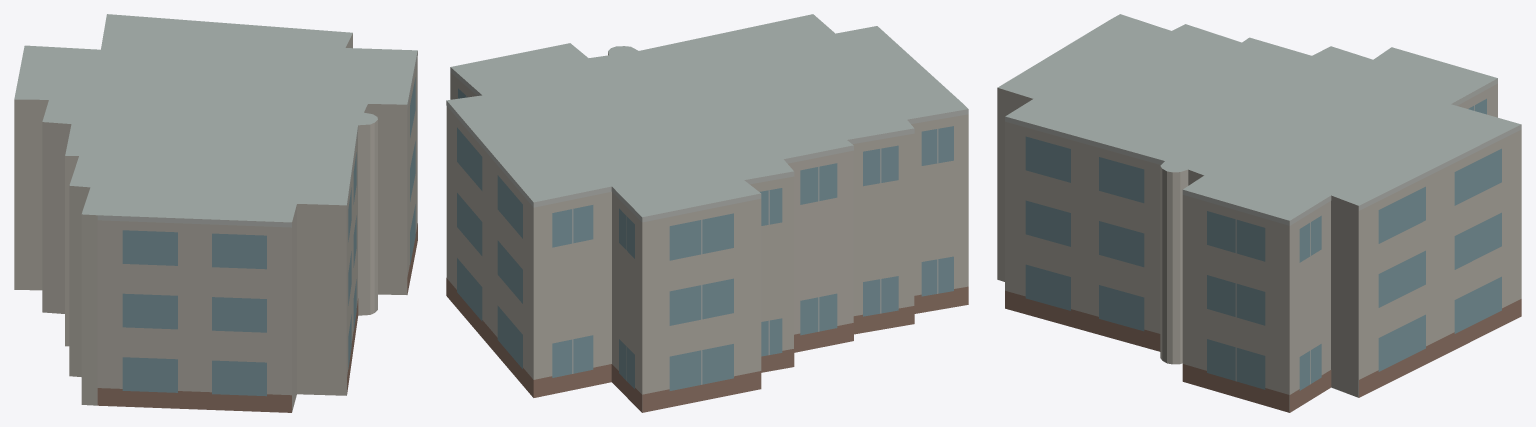
The model's file is survey-upis-32467884.glb.
3 renders of one model, left to right at view 1: azimuth 30°, elevation 25°; view 2: azimuth 150°, elevation 25°; view 3: azimuth 270°, elevation 25°, orthographic. The views are drawn at different scales.
Parts seen in each view (by area): view 1: survey-upis-32467884.tmp; view 2: survey-upis-32467884.tmp; view 3: survey-upis-32467884.tmp.
Part boxes in pixels (bbox=[...]): survey-upis-32467884.tmp: bbox=[14, 14, 417, 412]; survey-upis-32467884.tmp: bbox=[446, 14, 968, 412]; survey-upis-32467884.tmp: bbox=[997, 14, 1521, 412].
Size of the model in its own units: 21.14 by 9.15 by 22.64.
